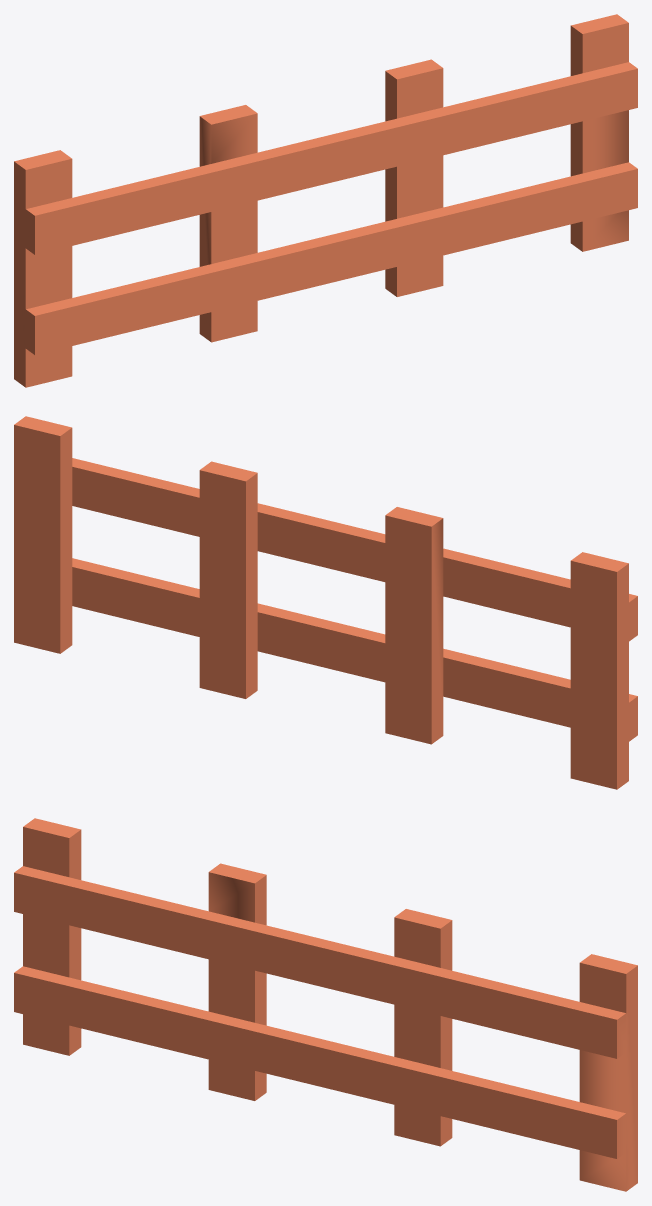
File: fence_planksDouble.obj
3 views of the same model, one above another, from view 1: azimuth 30°, elevation 25°; view 2: azimuth 150°, elevation 25°; view 3: azimuth 330°, elevation 25° (orthographic).
Visible parts, largest first — view 1: fence_planksDouble; view 2: fence_planksDouble; view 3: fence_planksDouble.
Boxes of the visible parts, left/top/right/bottom form: fence_planksDouble: left=14, top=14, right=637, bottom=387; fence_planksDouble: left=14, top=416, right=637, bottom=789; fence_planksDouble: left=14, top=818, right=637, bottom=1191.
Bounding box in the file's own units: 1 × 0.345 × 0.0599.
